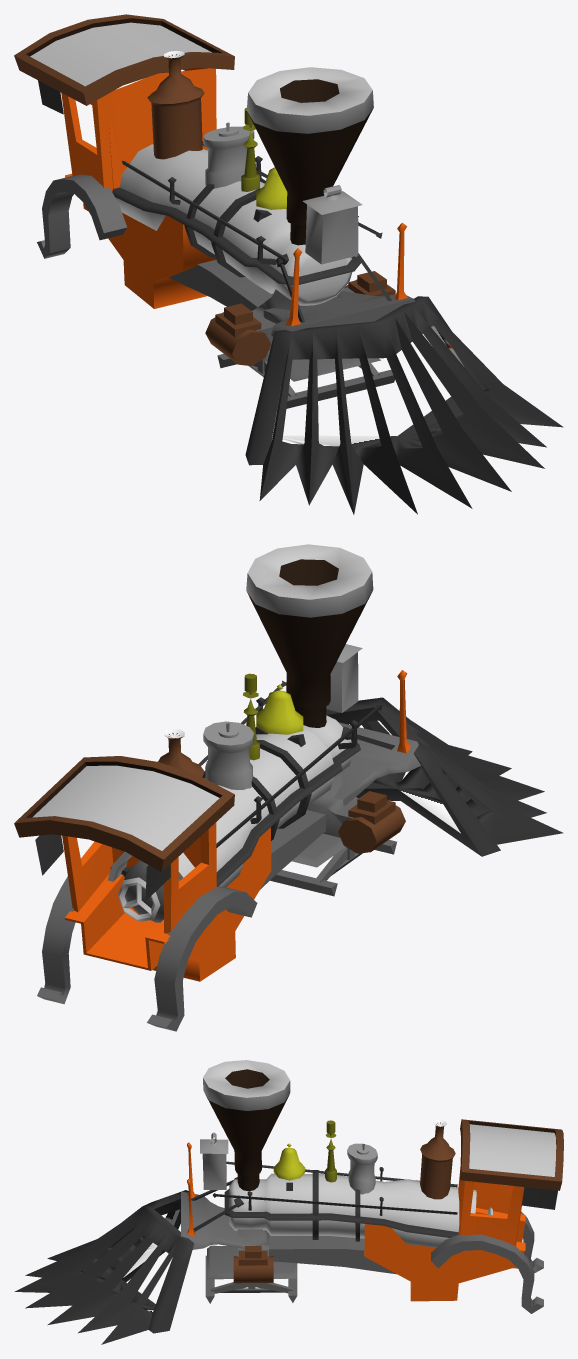
Rendered from Train_body.fbx.
3 renders of one model, top to bottom at view 1: azimuth 30°, elevation 25°; view 2: azimuth 150°, elevation 25°; view 3: azimuth 270°, elevation 25°, orthographic. The views are drawn at different scales.
Parts seen in each view (by area): view 1: train_body; view 2: train_body; view 3: train_body.
Boxes of the visible parts, x1,y1,x2,y2 form: train_body: [14, 14, 563, 514]; train_body: [14, 544, 563, 1031]; train_body: [14, 1060, 563, 1344].
Size of the model in its own units: 506 by 477 by 1108.
